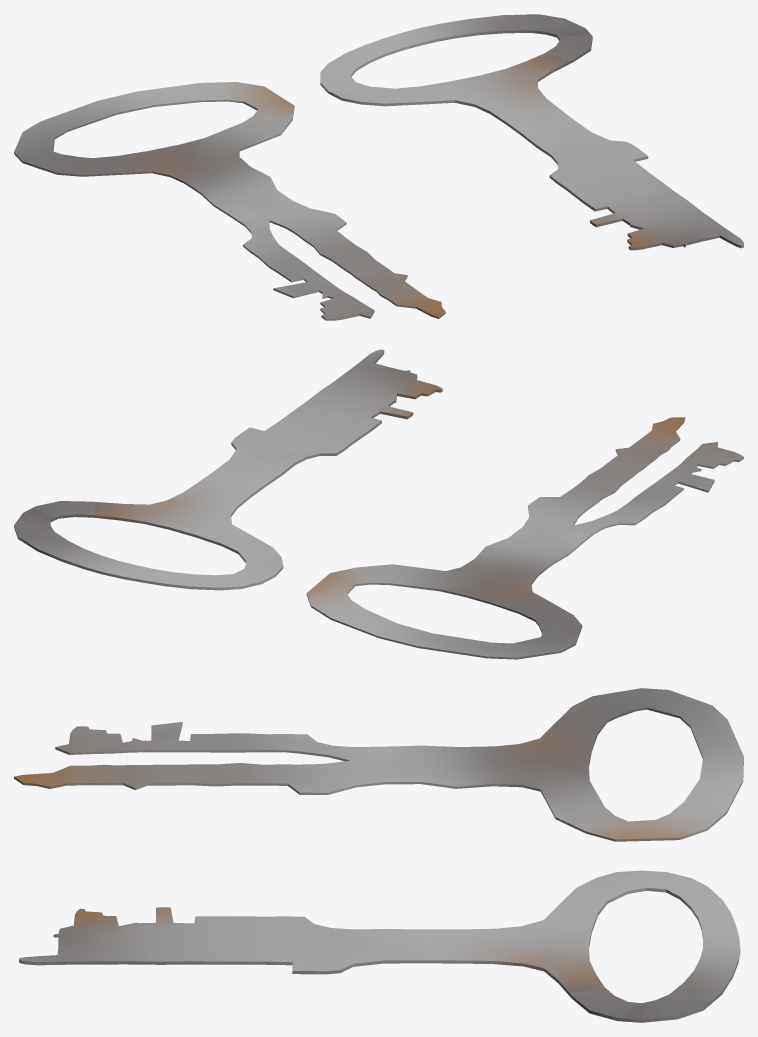
The model's file is filed_keys.fbx.
3 renders of one model, top to bottom at view 1: azimuth 30°, elevation 25°; view 2: azimuth 150°, elevation 25°; view 3: azimuth 270°, elevation 25°, orthographic. The views are drawn at different scales.
Visible parts, largest first — view 1: filed_key_top, filed_key_bottom; view 2: filed_key_top, filed_key_bottom; view 3: filed_key_top, filed_key_bottom.
Boxes of the visible parts, x1,y1,x2,y2 form: filed_key_top: (14,82,445,320); filed_key_bottom: (320,14,743,250); filed_key_top: (306,417,743,659); filed_key_bottom: (14,349,442,590); filed_key_top: (14,688,743,841); filed_key_bottom: (19,870,740,1022).
Size of the model in its own units: 2.26 by 0.0264 by 2.14.
Materials: 1 (1 with a texture image).
